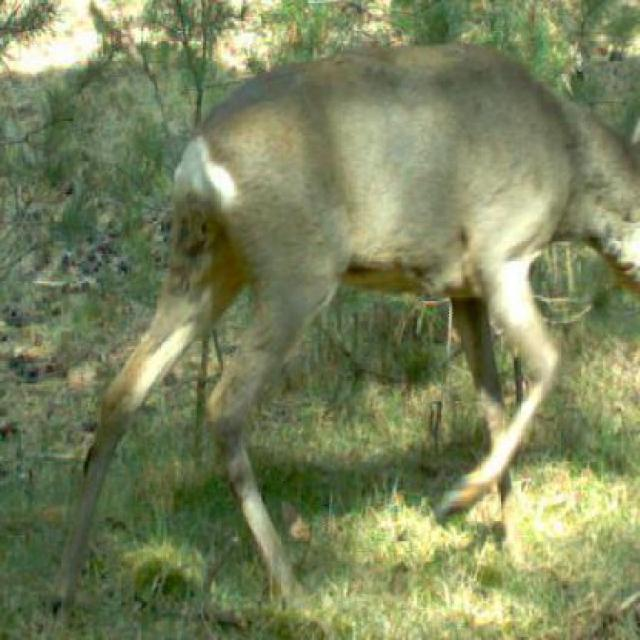Deer: (70, 38, 639, 570)
